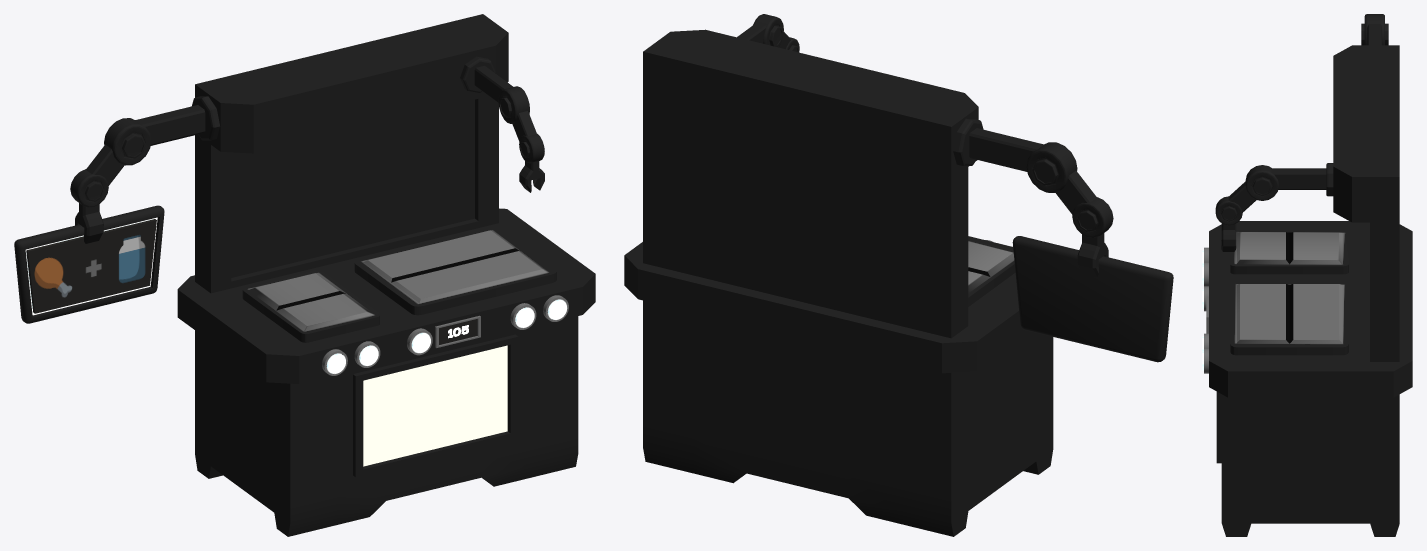
The model's file is Workbench.glb.
The picture shows the model from 3 angles, left to right: view 1: azimuth 30°, elevation 25°; view 2: azimuth 150°, elevation 25°; view 3: azimuth 270°, elevation 25°; orthographic projection. The views are drawn at different scales.
Visible parts, largest first — view 1: Workbench, Oven; view 2: Workbench; view 3: Workbench.
Part boxes in pixels (box(x1,y1,x2,y2)): Workbench: box(14, 14, 595, 536); Oven: box(363, 345, 507, 466); Workbench: box(624, 14, 1173, 536); Workbench: box(1202, 14, 1412, 536).
Size of the model in its own units: 4.57 by 3.35 by 1.77.
Materials: 1 (1 with a texture image).
